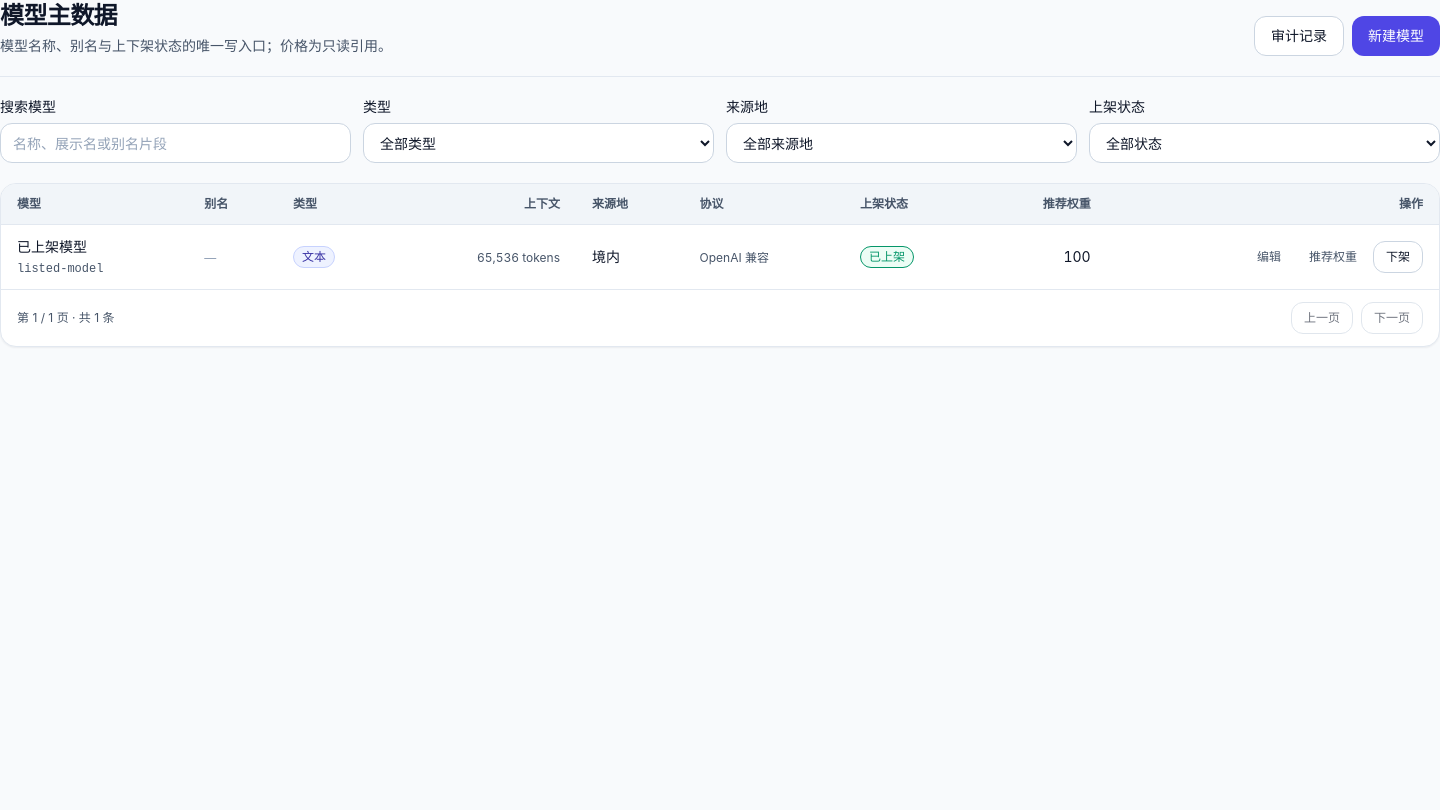
Scenario: ModelsPage › ModelsPage：推荐权重负数或超上限在字段上拦截
Expected: the text "已上架模型" is shown, [17,238,87,255]
Click the button "推荐权重": {"x": 1333, "y": 257} [1297,241,1369,273]
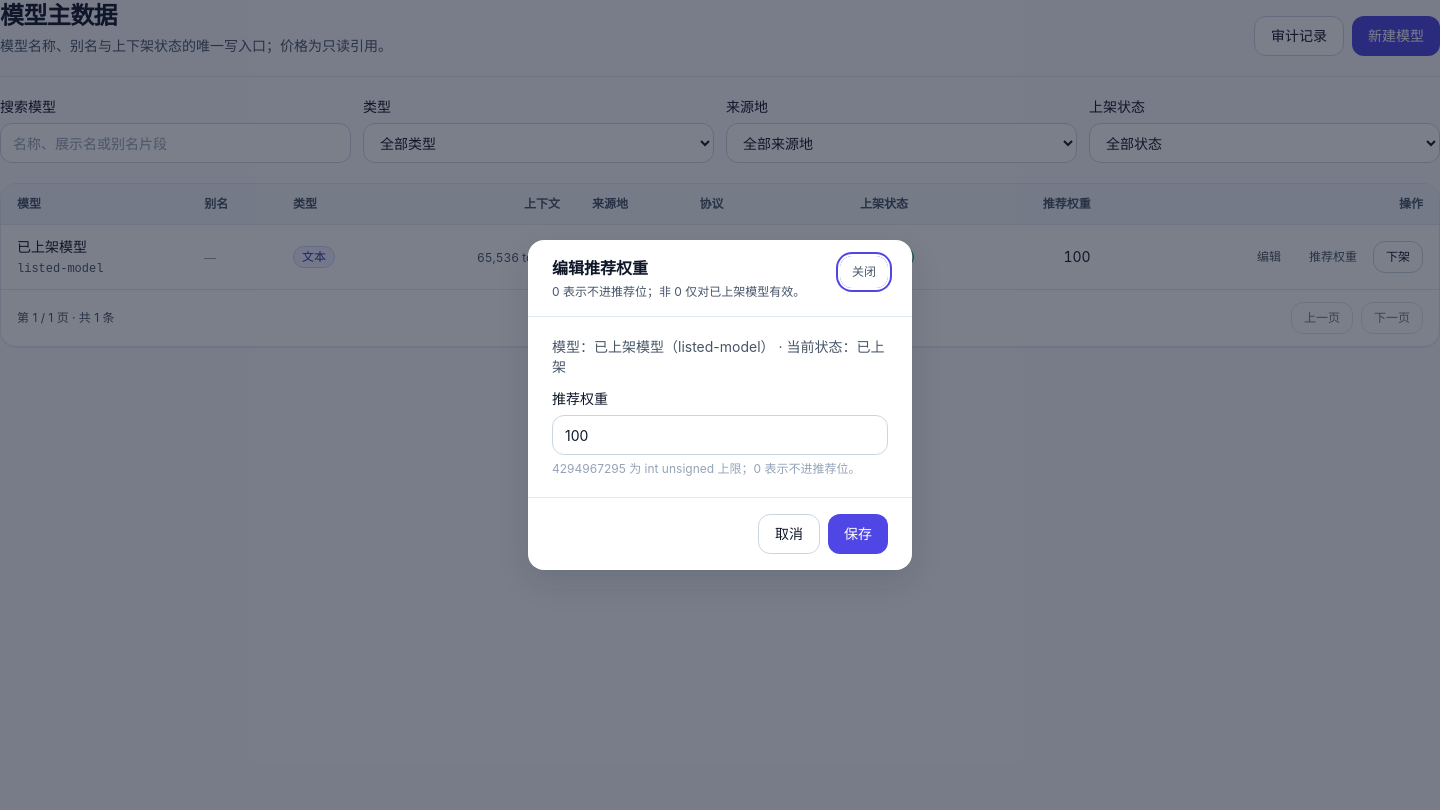
Replace the text in the field labelled "推荐权重" with "-1": {"x": 720, "y": 435} [552,415,888,455]
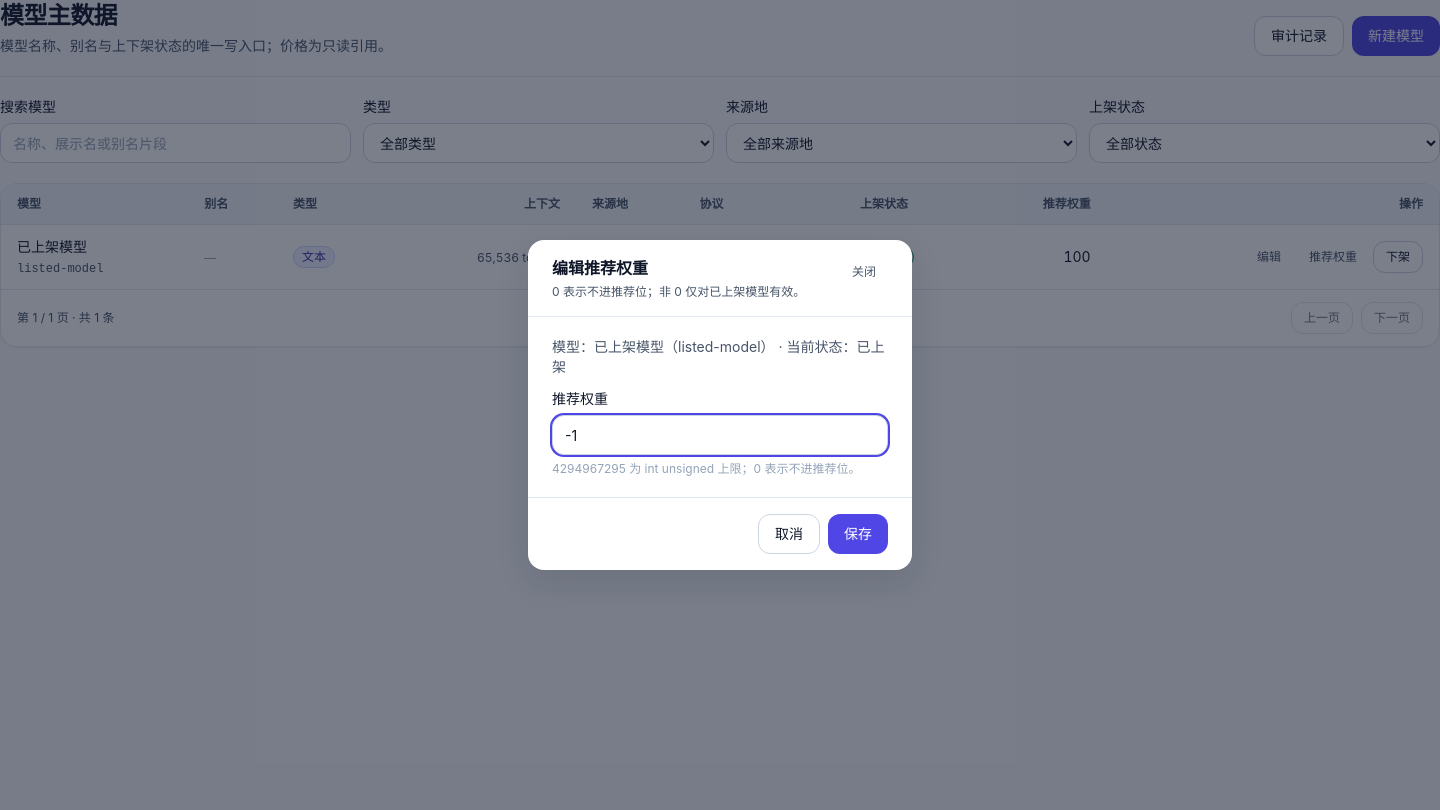
Click the button "保存": {"x": 858, "y": 534} [828,514,888,554]
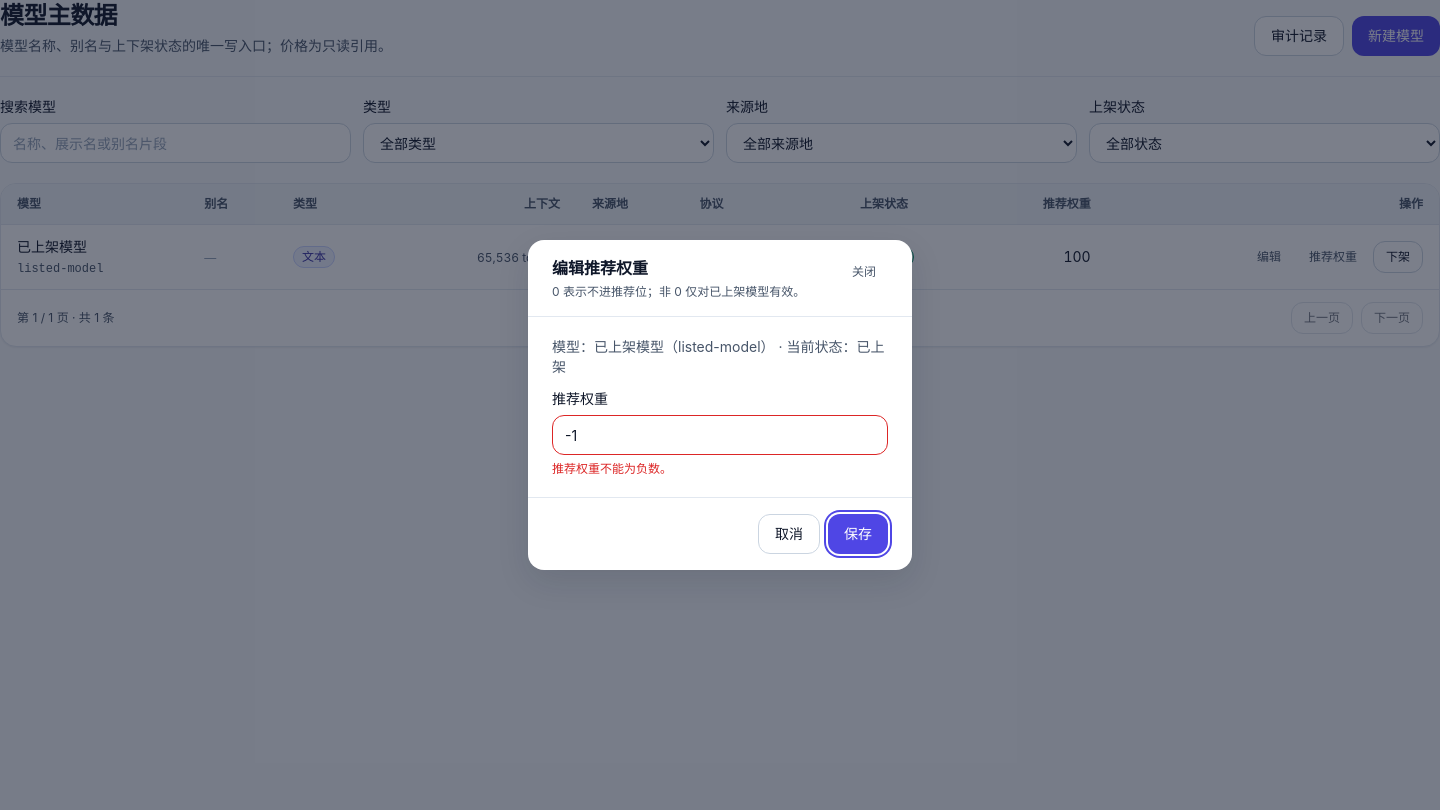
Now the text "推荐权重不能为负数。" is shown, box [552,461,672,476]
Replace the text in the field labelled "推荐权重" with "4294967296": {"x": 720, "y": 435} [552,415,888,455]
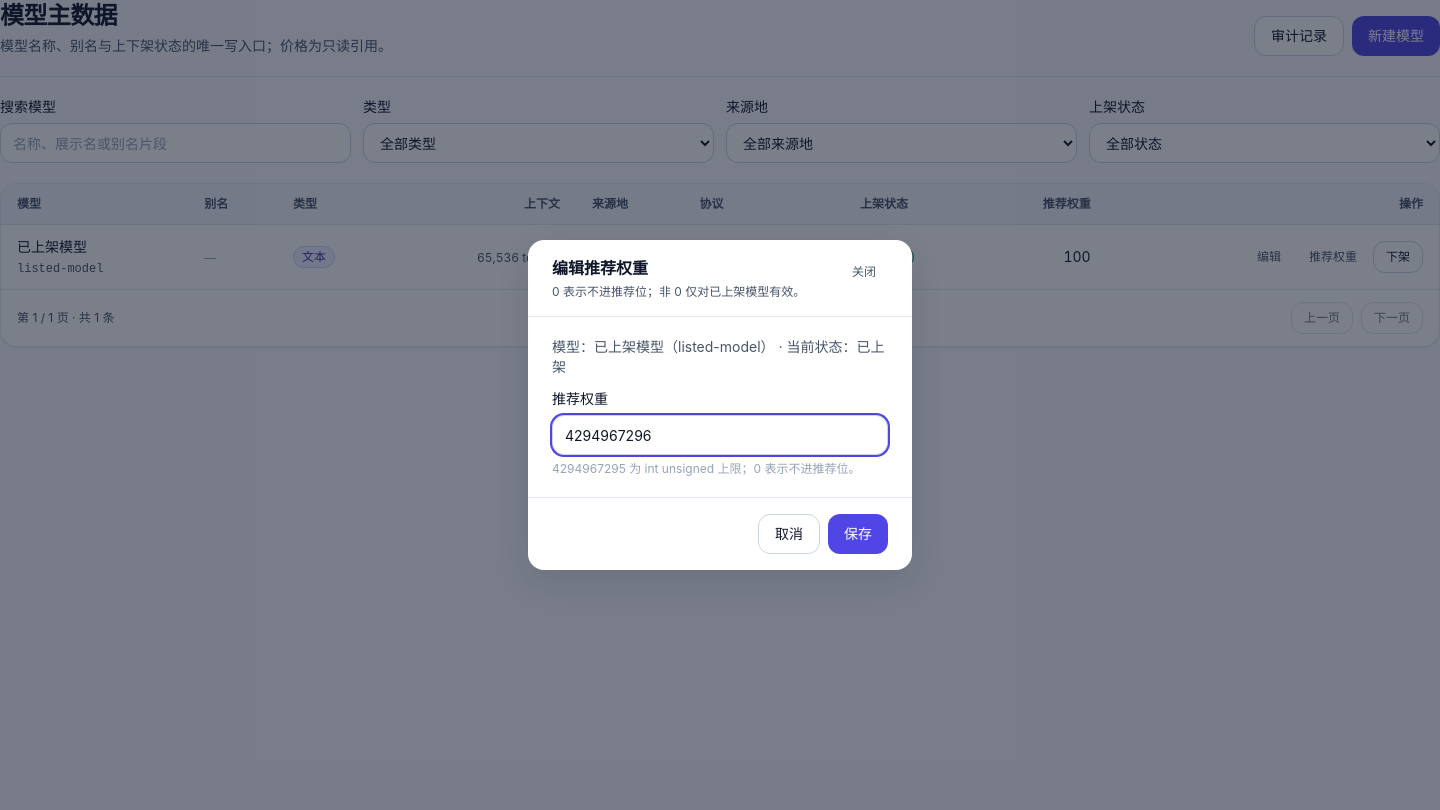
Click the button "保存": {"x": 858, "y": 534} [828,514,888,554]
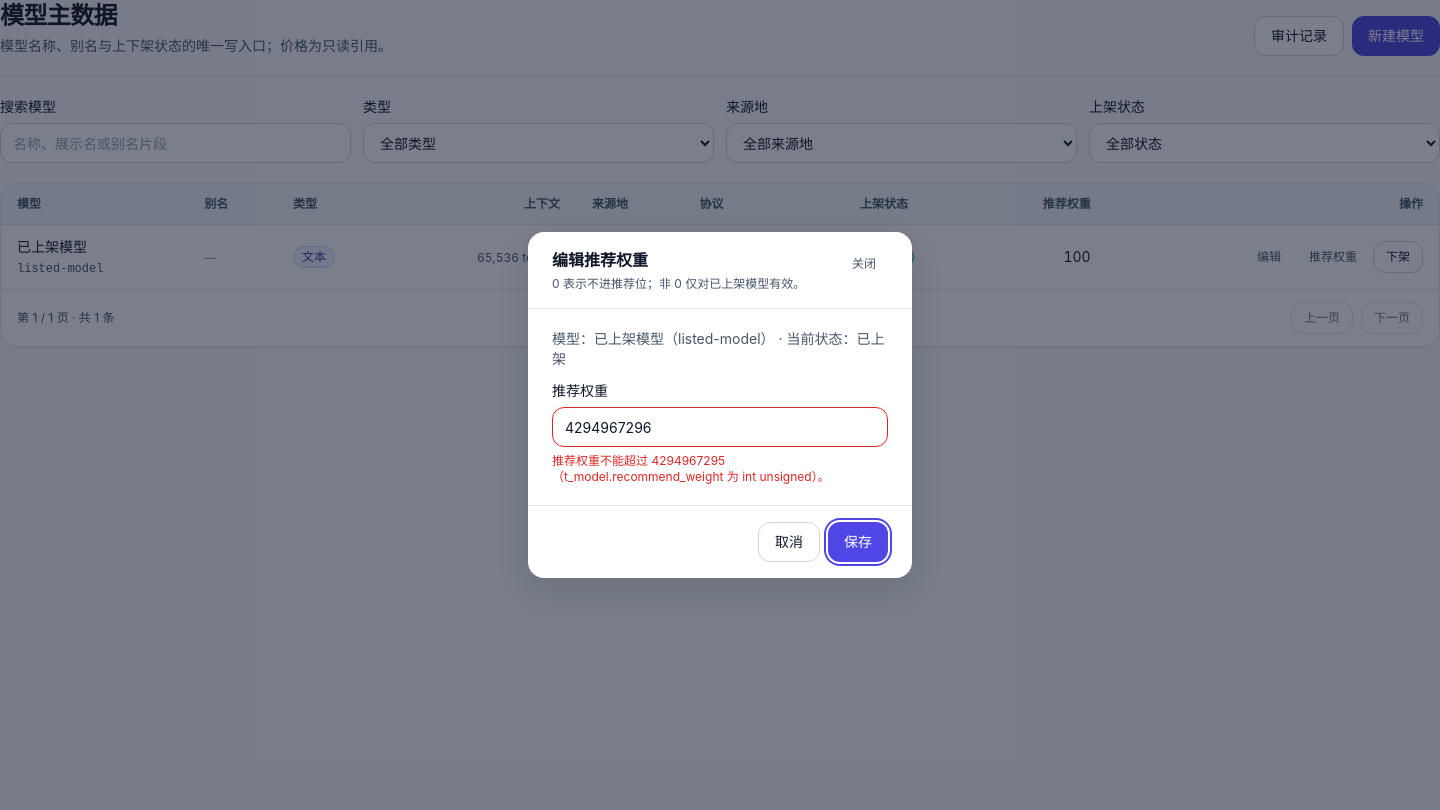
Now the text "推荐权重不能超过 4294967295" is shown, box [552,453,830,484]
